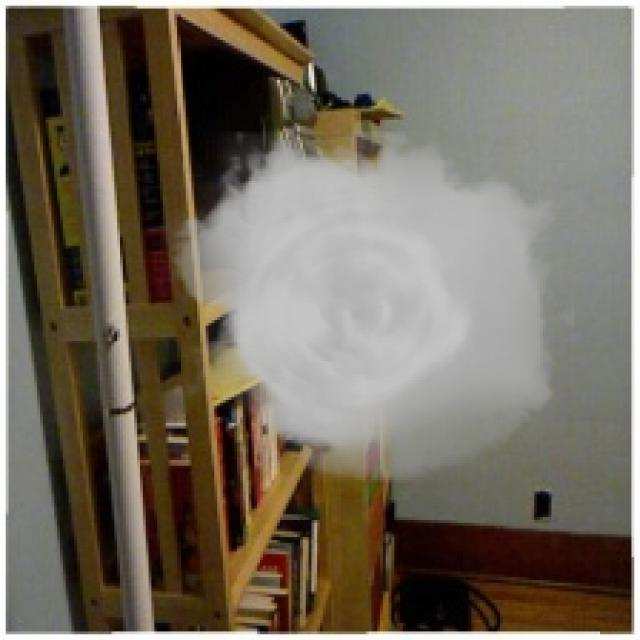smoke: (160, 131, 574, 483)
